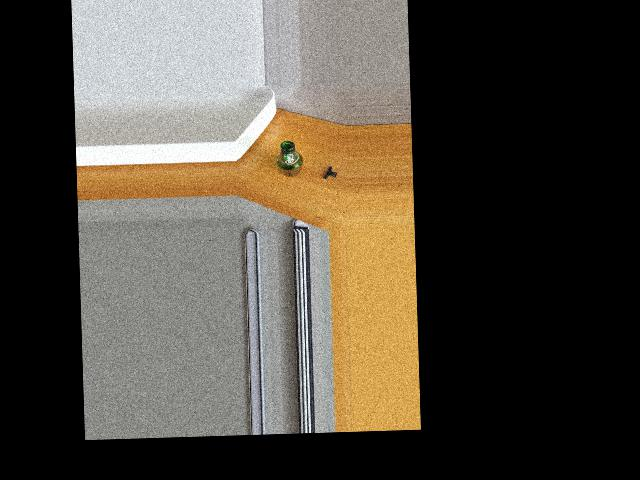beer: (275, 140, 303, 177)
